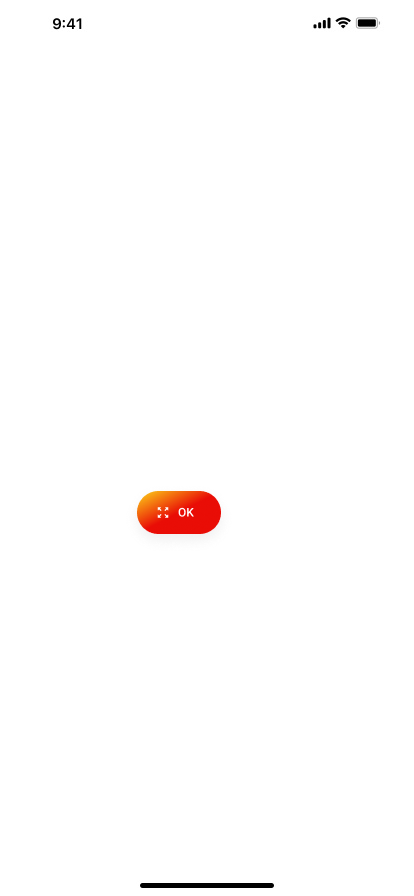Buttons: (122, 482, 236, 555)
Home Indicator: (0, 862, 414, 896)
Status Bar: (0, 0, 414, 44)
